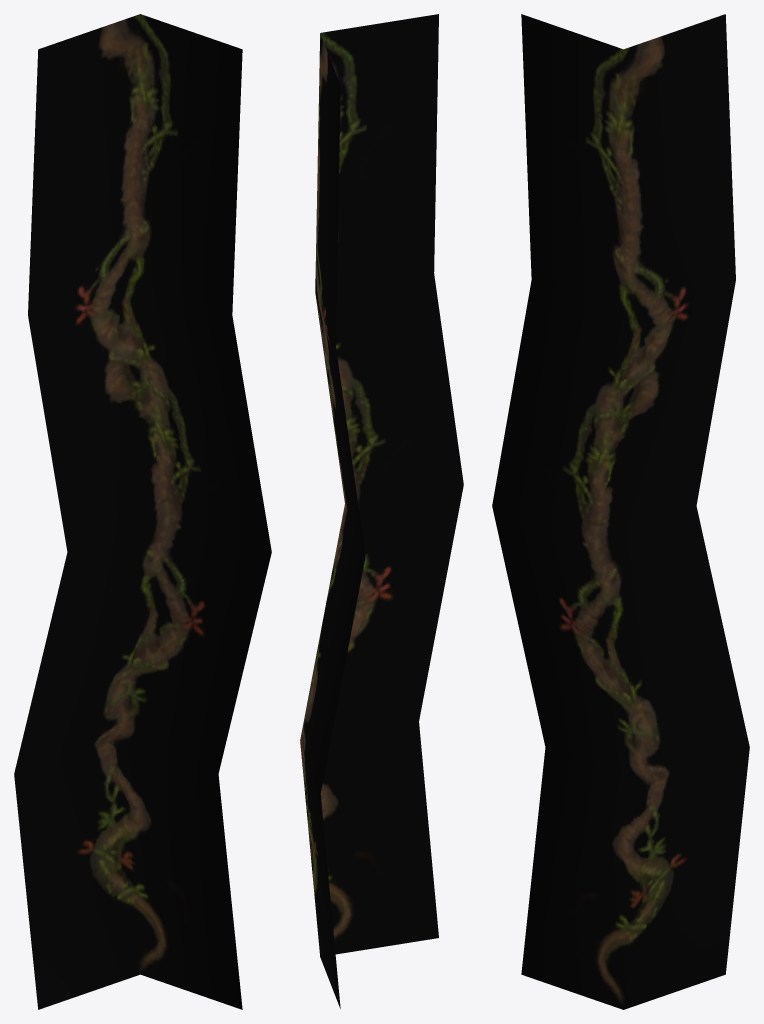
The model's file is sholazar_vine01.obj.
The picture shows the model from 3 angles, left to right: view 1: azimuth 90°, elevation 25°; view 2: azimuth 150°, elevation 25°; view 3: azimuth 270°, elevation 25°; orthographic projection. The views are drawn at different scales.
Visible parts, largest first — view 1: sholazar_vine01; view 2: sholazar_vine01; view 3: sholazar_vine01.
Part boxes in pixels (x1,y1,x2,y2): sholazar_vine01: (14,14,271,1009); sholazar_vine01: (300,14,463,1008); sholazar_vine01: (492,14,749,1009).
Bounding box in the file's own units: 4.35 × 43.21 × 10.51.
Materials: 1 (1 with a texture image).
